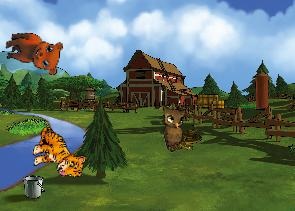bear: (3, 32, 63, 75)
owl: (157, 101, 195, 153)
tiger: (28, 125, 90, 180)
